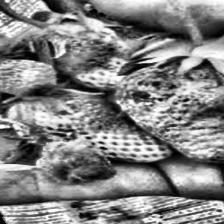Gray Mold: (113, 58, 224, 165), (5, 88, 172, 157), (23, 20, 133, 76), (32, 134, 116, 183), (0, 55, 59, 97)
